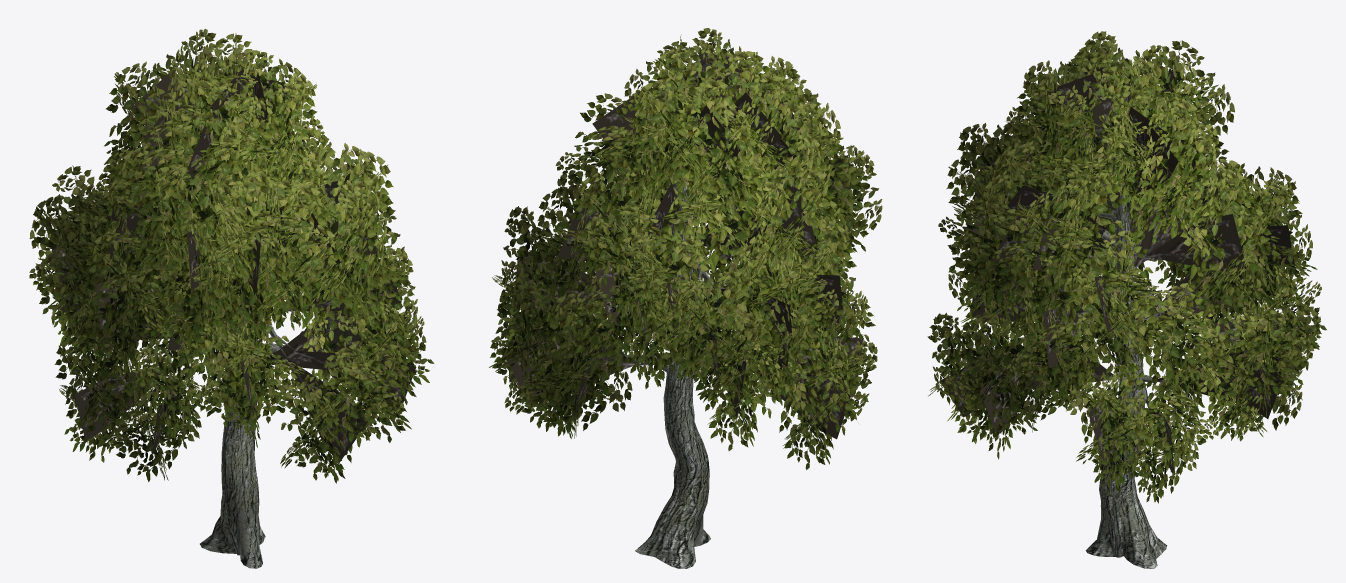
File: tree01_lod0.fbx
The picture shows the model from 3 angles, left to right: view 1: azimuth 30°, elevation 25°; view 2: azimuth 150°, elevation 25°; view 3: azimuth 270°, elevation 25°; orthographic projection. The views are drawn at different scales.
Parts seen in each view (by area): view 1: tree01_lod0_LOD0; view 2: tree01_lod0_LOD0; view 3: tree01_lod0_LOD0.
Boxes of the visible parts, box(x1,y1,x2,y2) form: tree01_lod0_LOD0: box(29, 29, 434, 568); tree01_lod0_LOD0: box(489, 28, 882, 568); tree01_lod0_LOD0: box(927, 31, 1326, 568).
Size of what is drawn, in the model's own units: 455 by 451 by 612.
